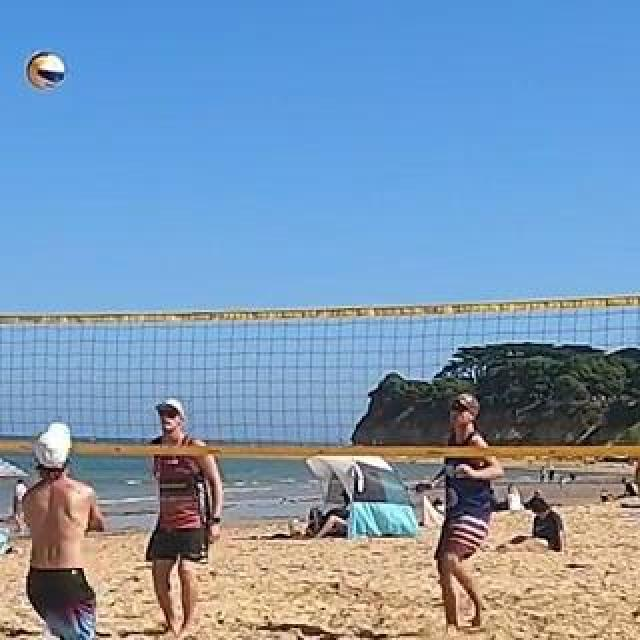volleyball: (28, 52, 66, 88), (37, 426, 71, 464)
